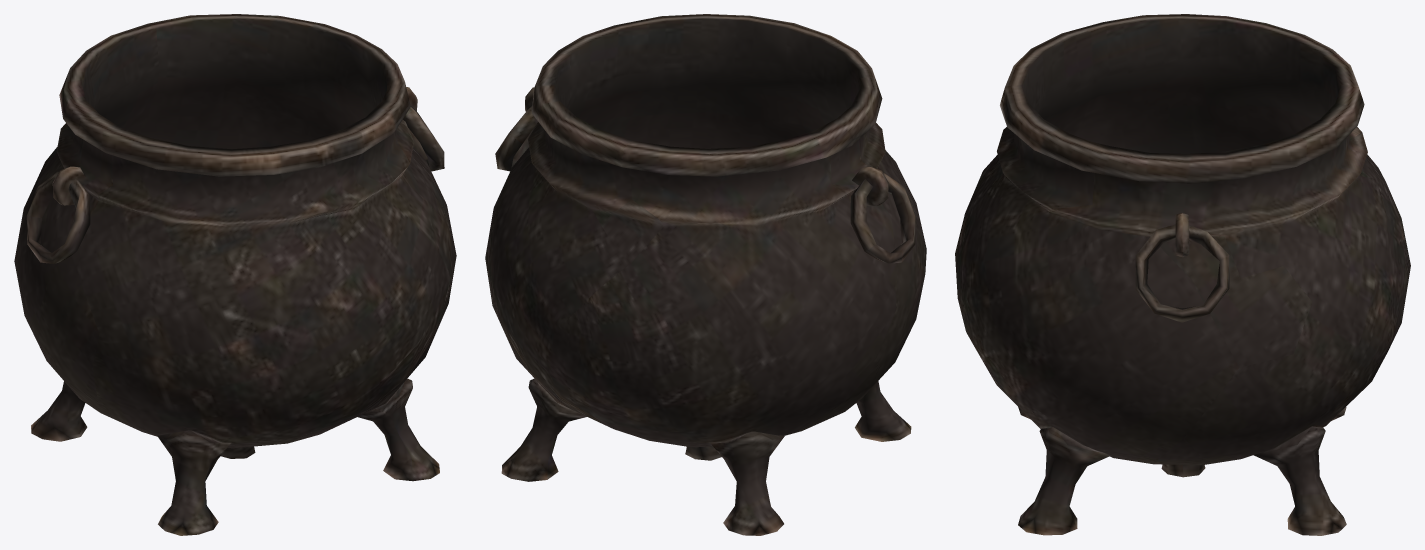
The picture shows the model from 3 angles, left to right: view 1: azimuth 30°, elevation 25°; view 2: azimuth 150°, elevation 25°; view 3: azimuth 270°, elevation 25°; orthographic projection. The views are drawn at different scales.
Size of the model in its own units: 1 by 0.9003 by 0.9735.
1 material, 1 textured.
